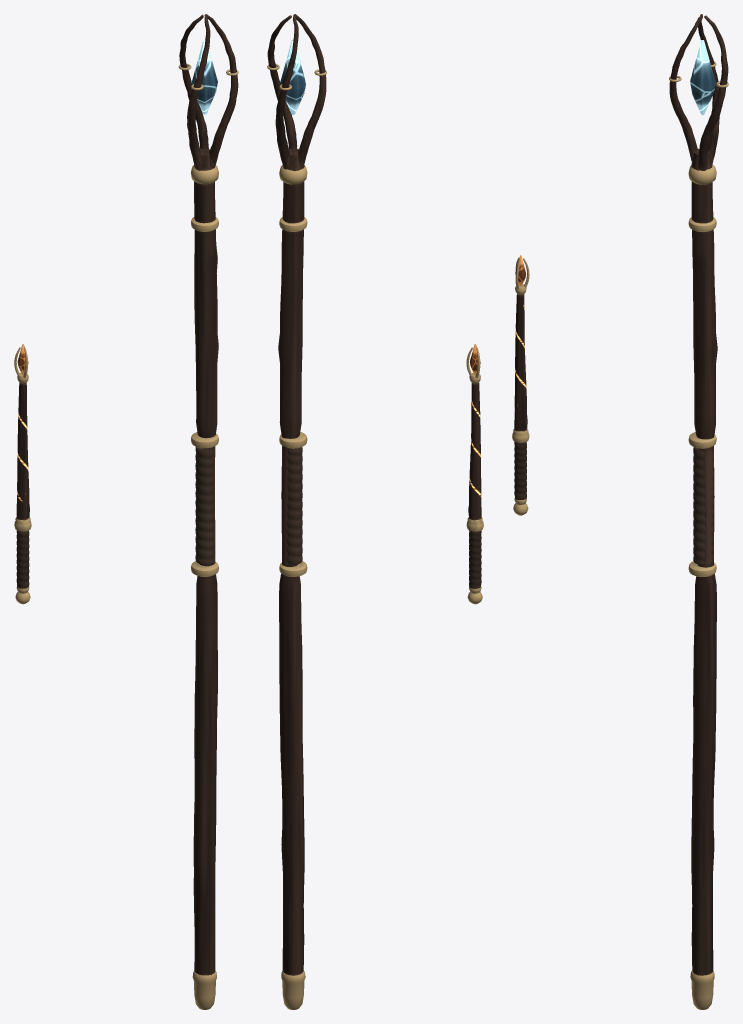
Rendered from Armory.gltf.
3 views of the same model, side by side, from view 1: azimuth 30°, elevation 25°; view 2: azimuth 150°, elevation 25°; view 3: azimuth 330°, elevation 25° (orthographic).
Parts seen in each view (by area): view 1: Staff, Wand; view 2: Staff, Wand; view 3: Staff, Wand.
Boxes of the visible parts, x1,y1,x2,y2 form: Staff: [178, 14, 238, 1009]; Wand: [14, 344, 31, 604]; Staff: [267, 14, 326, 1009]; Wand: [466, 344, 483, 604]; Staff: [669, 14, 728, 1009]; Wand: [512, 255, 529, 515].
Size of the model in its own units: 0.4809 by 2.09 by 0.1146.
6 materials, 6 textured.
